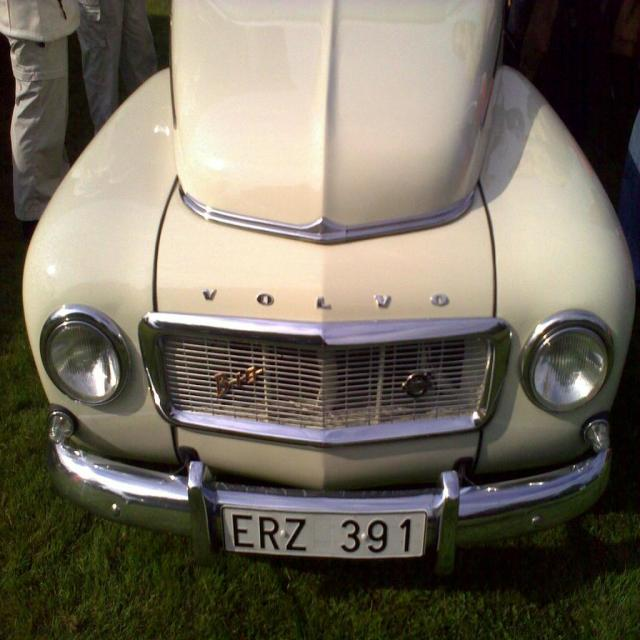car: (21, 1, 632, 577)
